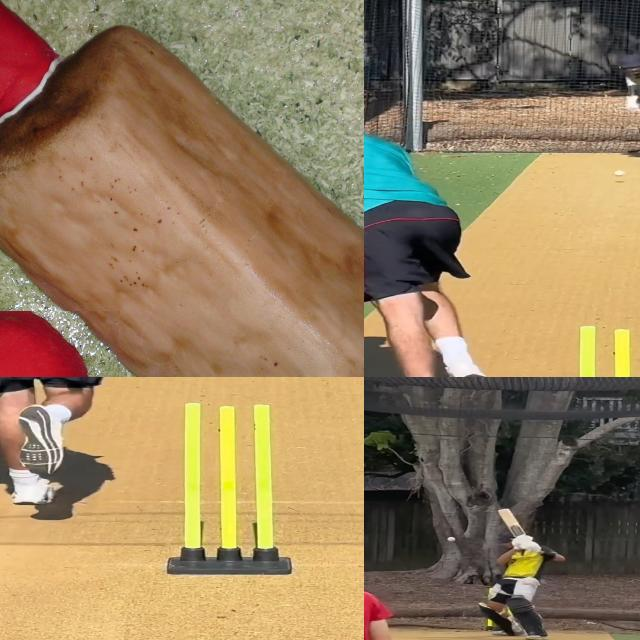Cricket ball: (612, 168, 627, 178), (446, 535, 458, 543)
Stumps: (167, 402, 292, 575)
